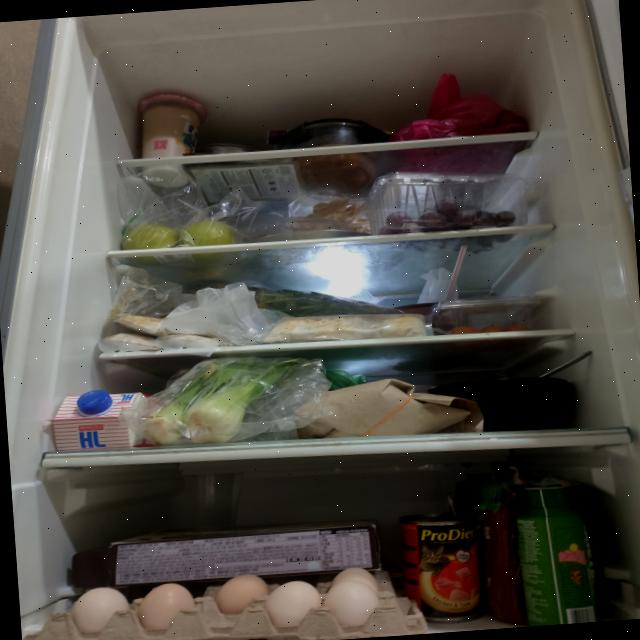apple: (120, 218, 235, 252)
egg: (18, 562, 428, 640)
grape: (375, 193, 516, 236)
pakchoy: (138, 354, 302, 448)
tempeh: (260, 305, 430, 350)
unknown_bag: (388, 66, 532, 178)
